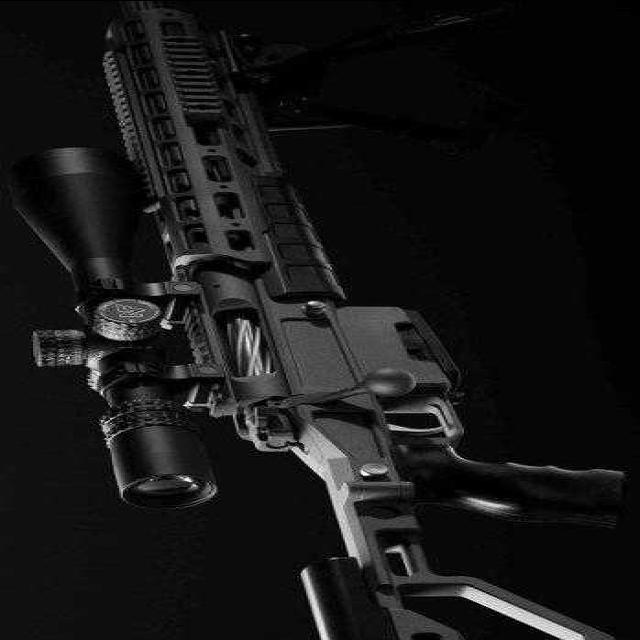heavyweapon: (14, 28, 640, 640)
